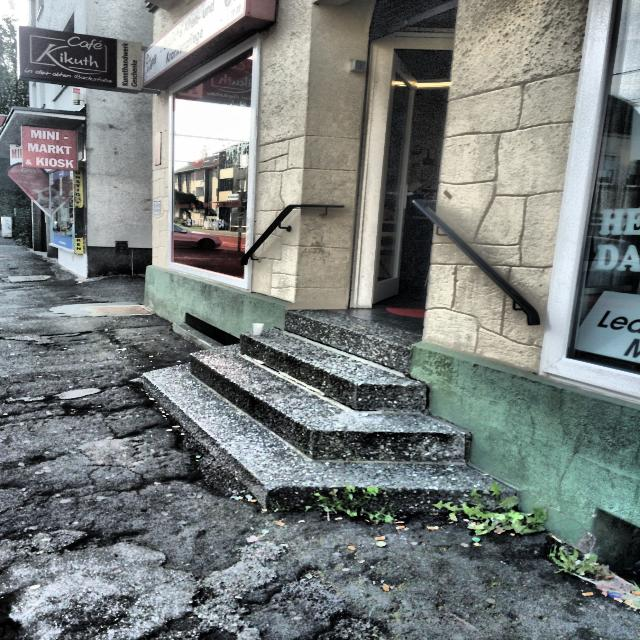escada: (142, 310, 516, 531)
